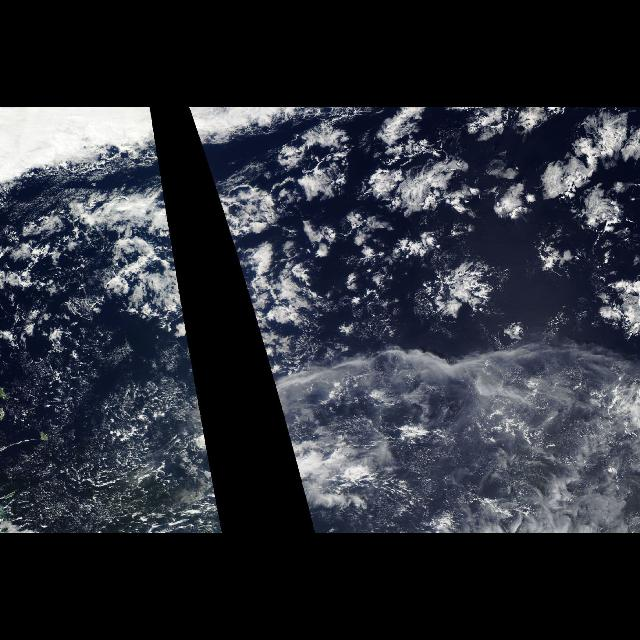Flower: (234, 110, 634, 318)
Sugar: (11, 414, 186, 524)
